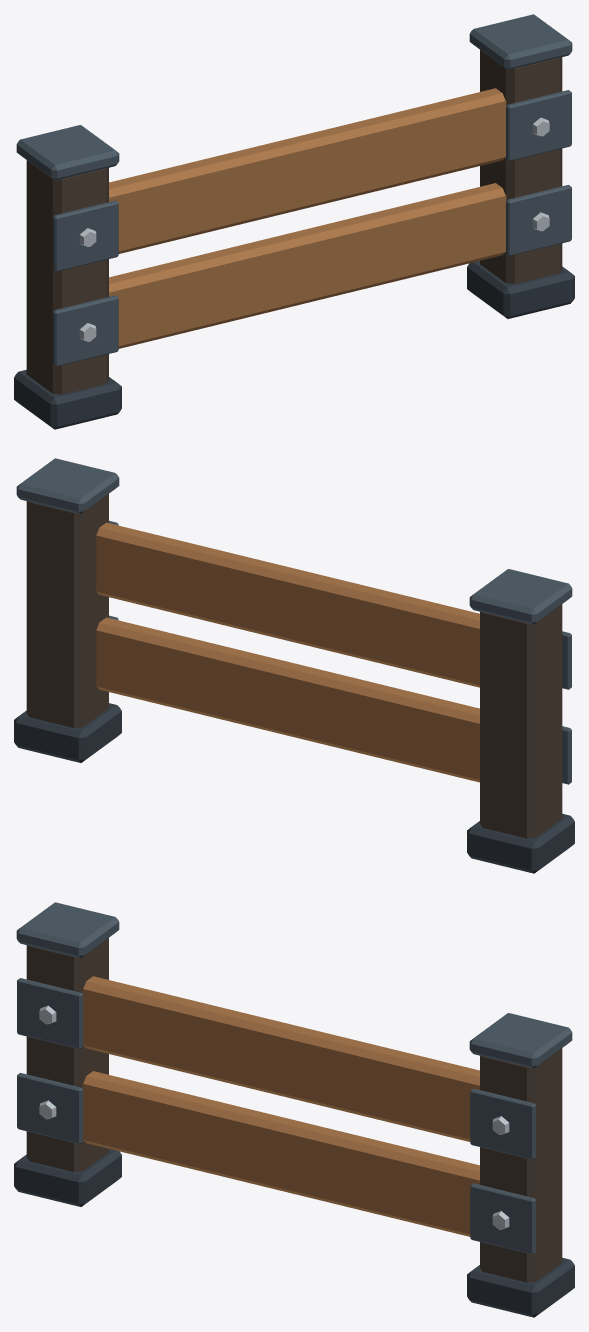
The model's file is Fence_Section.fbx.
3 renders of one model, top to bottom at view 1: azimuth 30°, elevation 25°; view 2: azimuth 150°, elevation 25°; view 3: azimuth 330°, elevation 25°, orthographic.
Parts seen in each view (by area): view 1: Wood, Frame, Timber, FrameDark, SteelLight; view 2: Wood, Timber, Frame, FrameDark; view 3: Wood, Frame, Timber, FrameDark, SteelLight.
Boxes of the visible parts, <box> form: Wood: <box>109,88,506,348</box>; Frame: <box>16,14,572,366</box>; Timber: <box>26,50,562,394</box>; FrameDark: <box>14,261,574,429</box>; SteelLight: <box>79,117,549,341</box>; Wood: <box>96,522,479,782</box>; Timber: <box>26,494,562,838</box>; Frame: <box>16,458,572,784</box>; FrameDark: <box>14,703,574,873</box>; Wood: <box>82,976,479,1236</box>; Frame: <box>16,902,572,1254</box>; Timber: <box>26,938,562,1282</box>; FrameDark: <box>14,1149,574,1317</box>; SteelLight: <box>39,1005,509,1229</box>.
Size of the model in its own units: 6.95 by 3.34 by 0.985.
